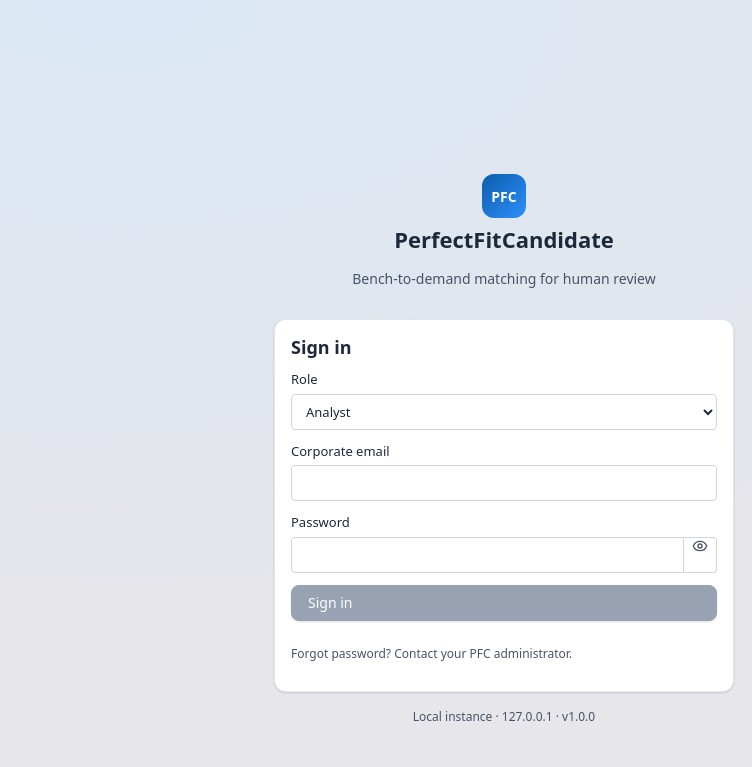
Test case: sign-in lockout (REQ-AUTH-04) › counts down when the 423 carries Retry-After
Type "olivia.admin@example.com" into the field labelled "Corporate email" at (504, 483), box [291,465,717,501]
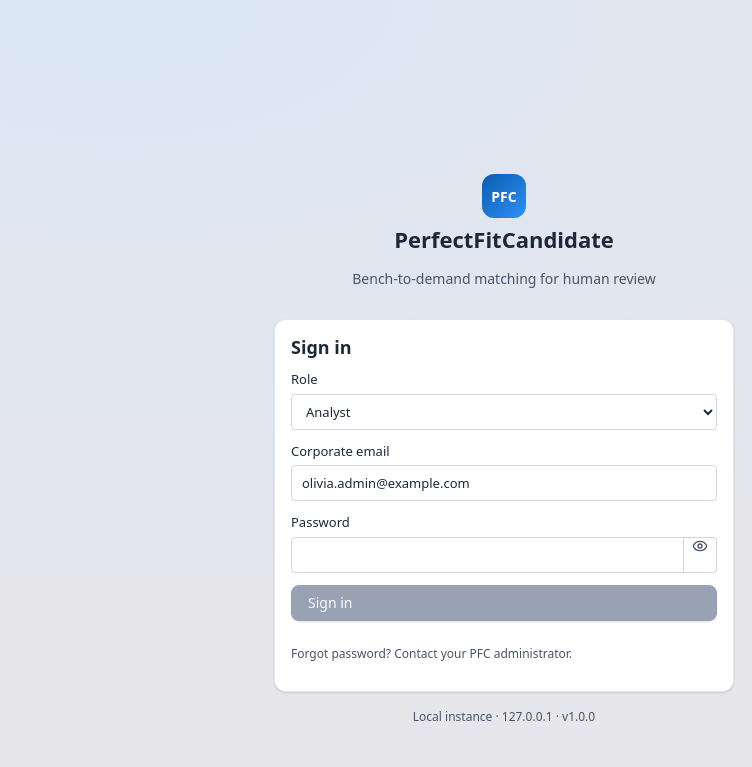
Type "wrong" into the password field labelled "Password" at (488, 555), box [291,537,684,573]
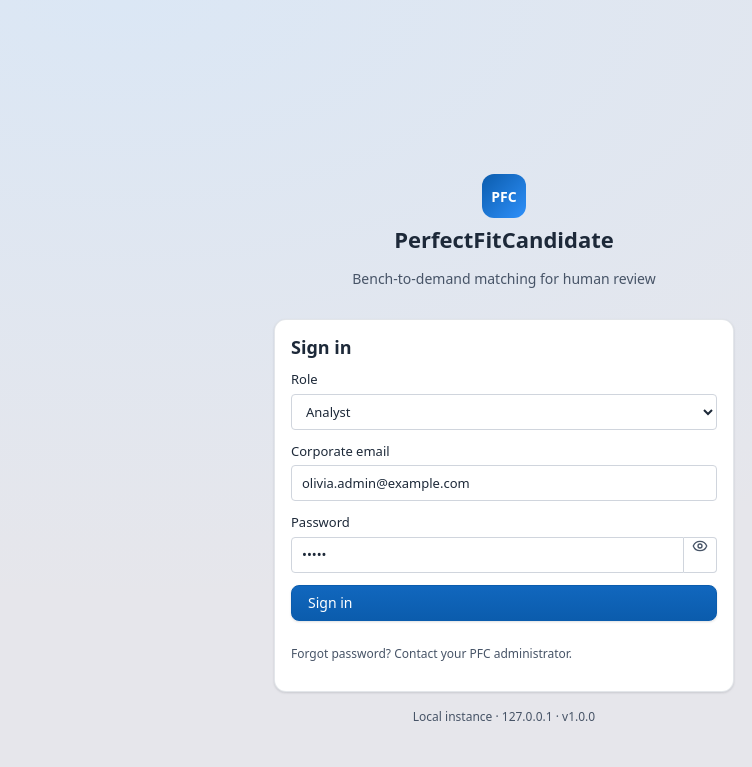
Click the button "Sign in" at (330, 603), box [291,585,717,621]
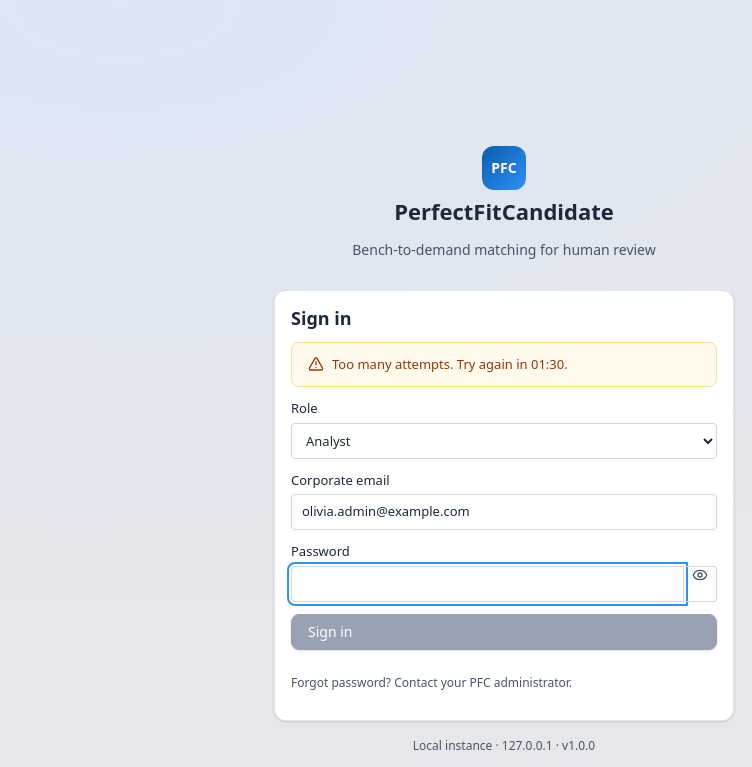
Expected: the text "Too many attempts. Try again in 01:30." is shown, [332,354,568,374]
Expected: the button "Sign in" is disabled, [291,614,717,650]
